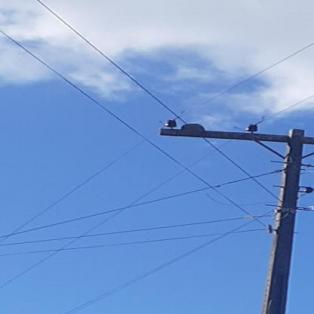Poste: (208, 125, 314, 314)
